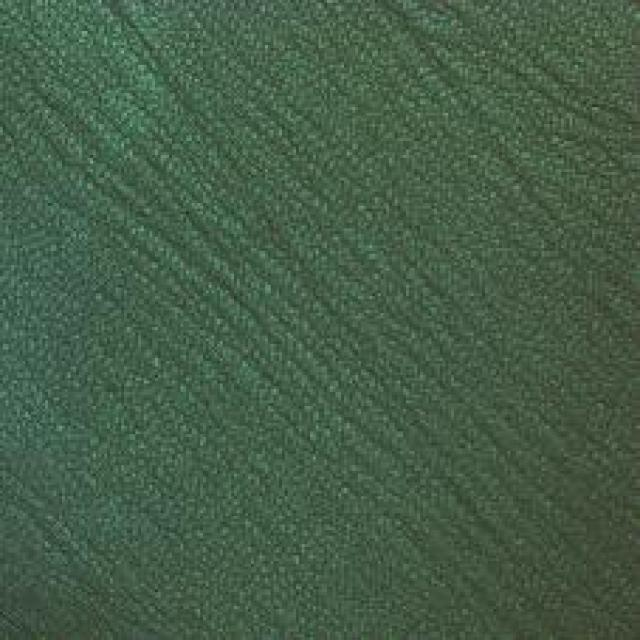Growth Marks: (135, 166, 374, 337), (410, 30, 624, 177)
